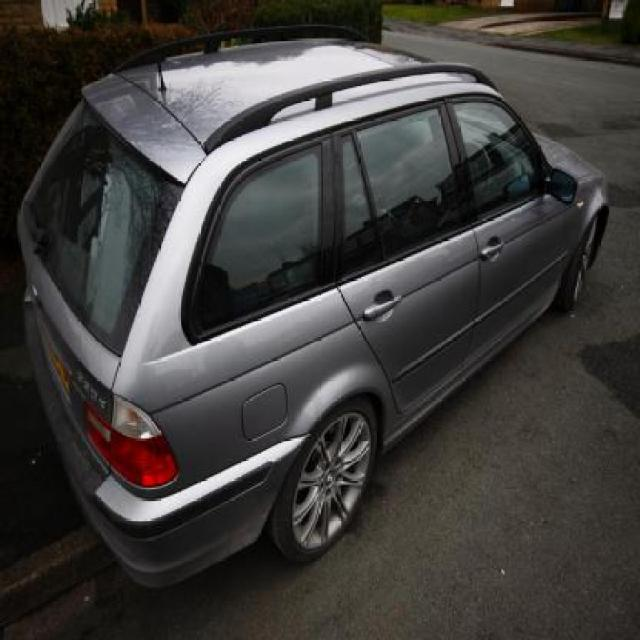License-Plates: (30, 322, 76, 408)
